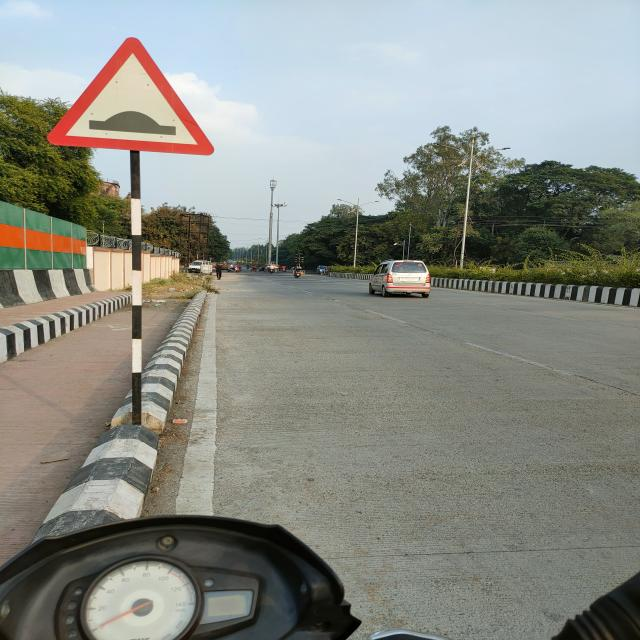horn_prohibited: (46, 37, 213, 155)
